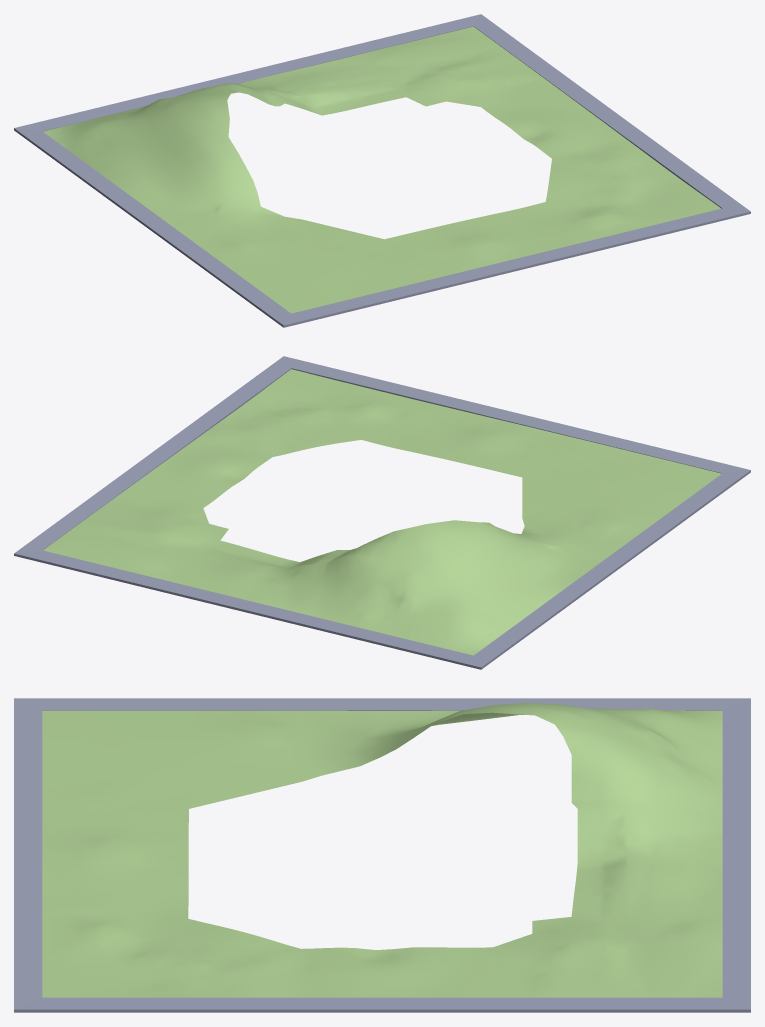
The model's file is Pp_ExtGround.fbx.
3 renders of one model, top to bottom at view 1: azimuth 30°, elevation 25°; view 2: azimuth 150°, elevation 25°; view 3: azimuth 270°, elevation 25°, orthographic. The views are drawn at different scales.
Visible parts, largest first — view 1: Pp_ExtGround; view 2: Pp_ExtGround; view 3: Pp_ExtGround.
Boxes of the visible parts, box(x1,y1,x2,y2) form: Pp_ExtGround: box(14, 14, 750, 327); Pp_ExtGround: box(14, 356, 750, 669); Pp_ExtGround: box(14, 698, 750, 1012).
Size of the model in its own units: 13800 by 1592 by 13800.
